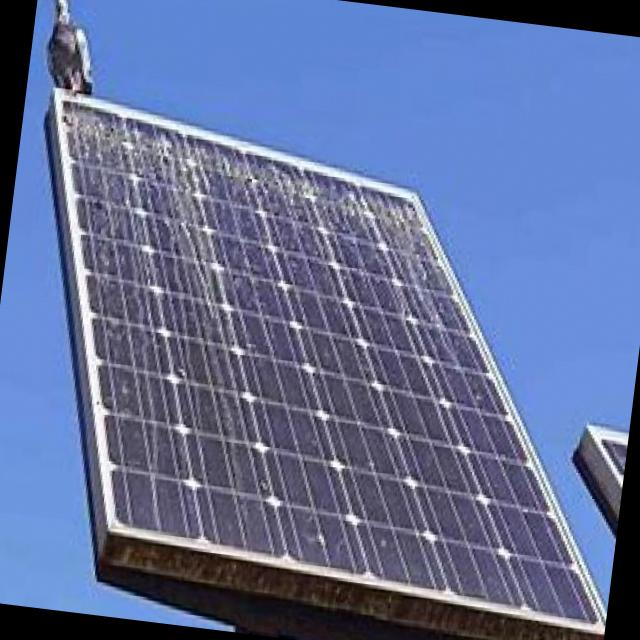faulty: (61, 98, 595, 622)
